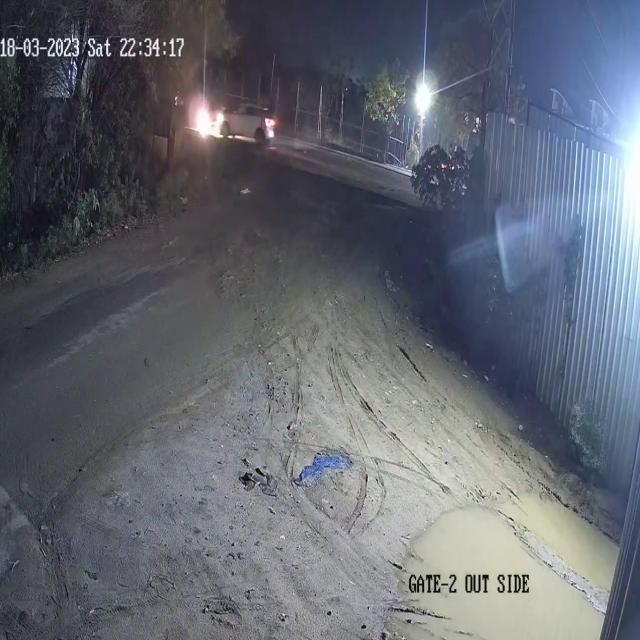accident: (176, 85, 282, 154)
